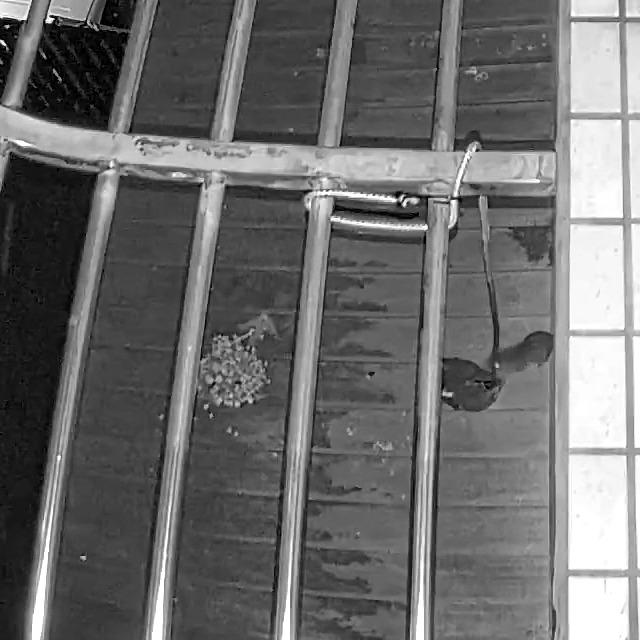rat: (485, 331, 554, 375)
